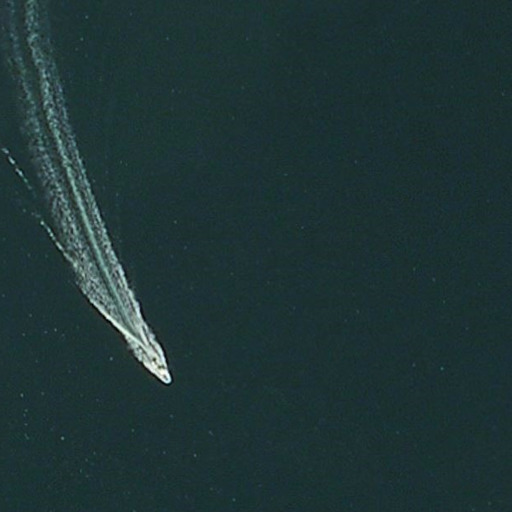ship: (125, 338, 174, 388)
